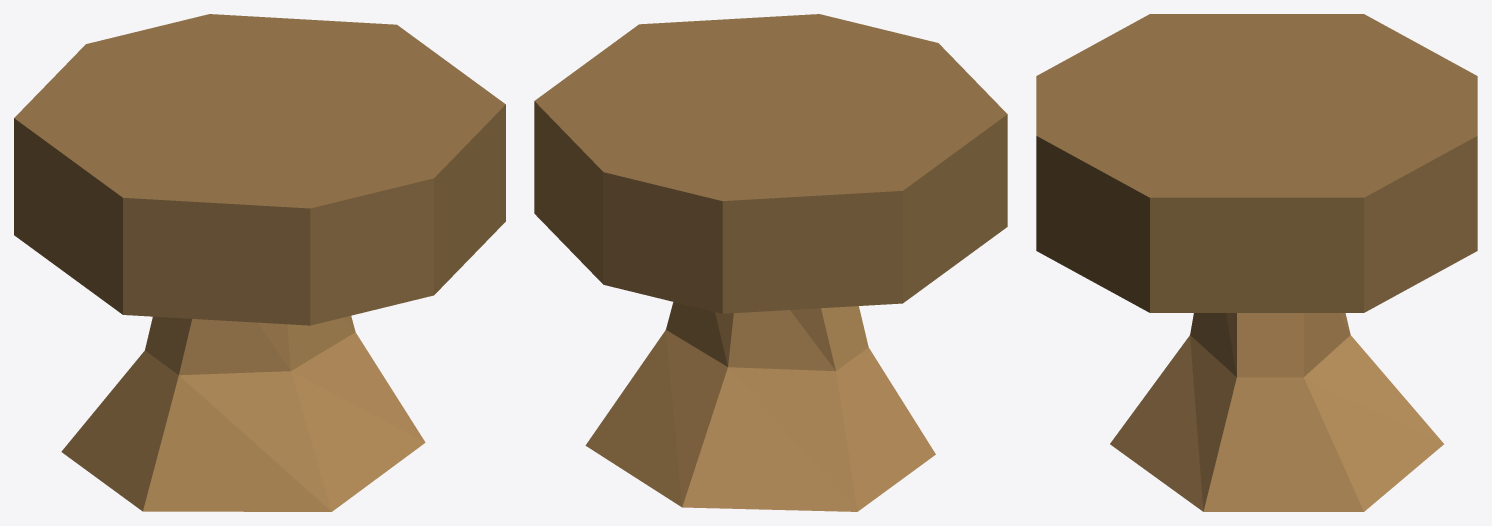
Rendered from obj_stool_3_0.obj.
3 renders of one model, left to right at view 1: azimuth 30°, elevation 25°; view 2: azimuth 150°, elevation 25°; view 3: azimuth 270°, elevation 25°, orthographic. The views are drawn at different scales.
Size of the model in its own units: 0.5078 by 0.4375 by 0.5156.
